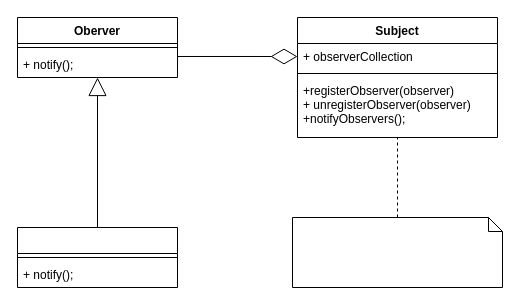
Some shapes in this 520 by 308 pixel diagram are drawn without their labels. The shapes that lost their labels are listed below. From the top down, each one's box as (x1, y1, x2, y2) in pixels, then its label:
(16, 226, 178, 288): Central de noticias
(292, 216, 502, 288): notifyObservers() for observer in observerCollection call observer.notify()
